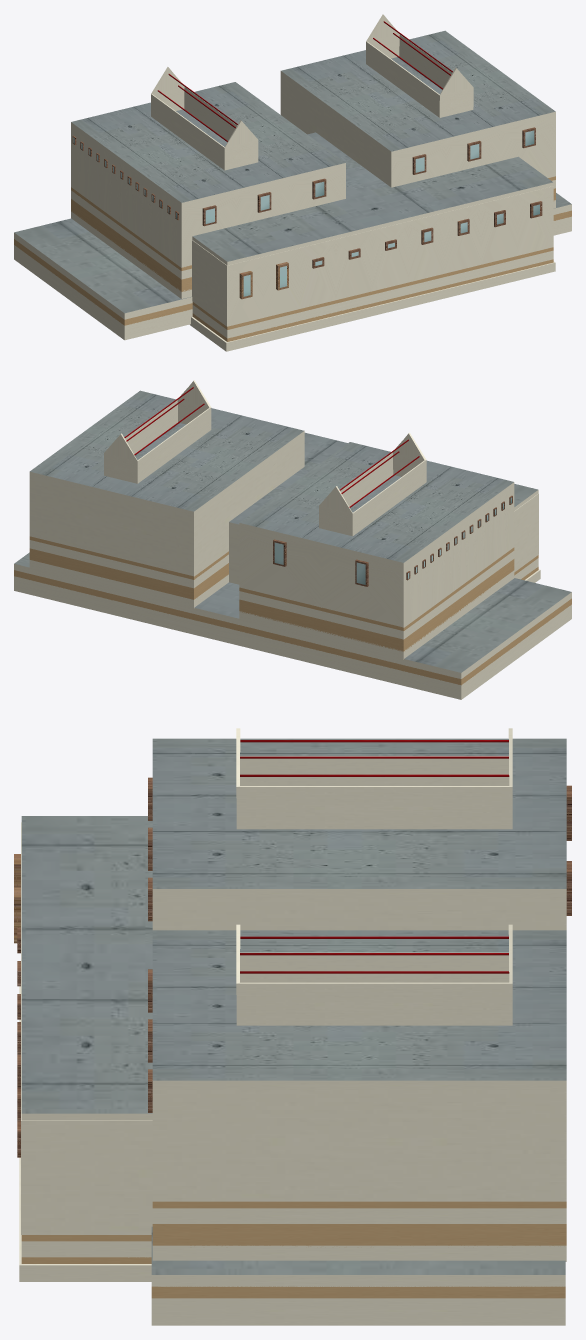
File: Desert building3(04-21).FBX
3 renders of one model, top to bottom at view 1: azimuth 30°, elevation 25°; view 2: azimuth 150°, elevation 25°; view 3: azimuth 270°, elevation 25°, orthographic. The views are drawn at different scales.
Parts seen in each view (by area): view 1: Object014; view 2: Object014; view 3: Object014.
Part boxes in pixels (x1,y1,x2,y2): Object014: (14,14,571,351); Object014: (14,380,571,699); Object014: (14,728,571,1325).
Bounding box in the file's own units: 1472 × 538 × 849.
